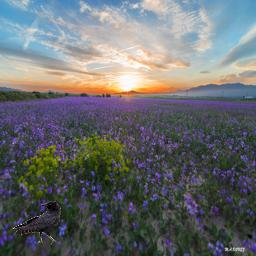Crow: (10, 201, 61, 245)
